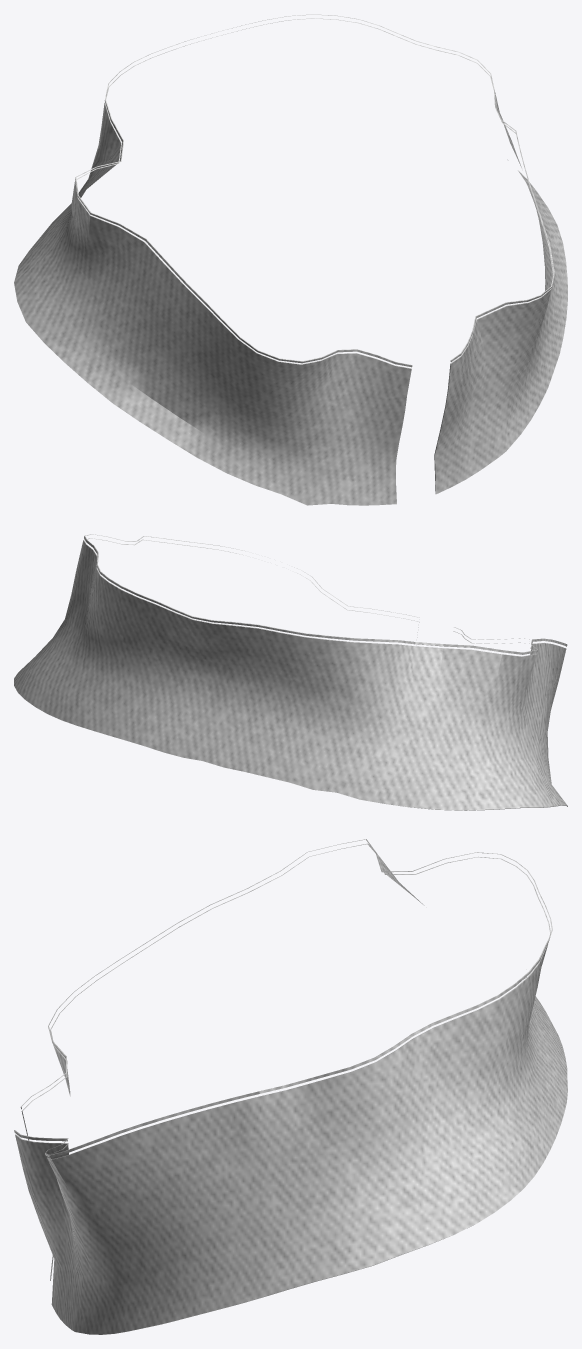
The model's file is Neck.glb.
The picture shows the model from 3 angles, top to bottom: view 1: azimuth 30°, elevation 25°; view 2: azimuth 150°, elevation 25°; view 3: azimuth 270°, elevation 25°; orthographic projection. The views are drawn at different scales.
Parts seen in each view (by area): view 1: Neck.001; view 2: Neck.001; view 3: Neck.001.
Boxes of the visible parts, left/top/right/bottom form: Neck.001: left=14, top=14, right=567, bottom=505; Neck.001: left=14, top=534, right=567, bottom=810; Neck.001: left=14, top=839, right=567, bottom=1334.
Size of the model in its own units: 0.3738 by 0.222 by 0.2948.
1 material, 1 textured.
